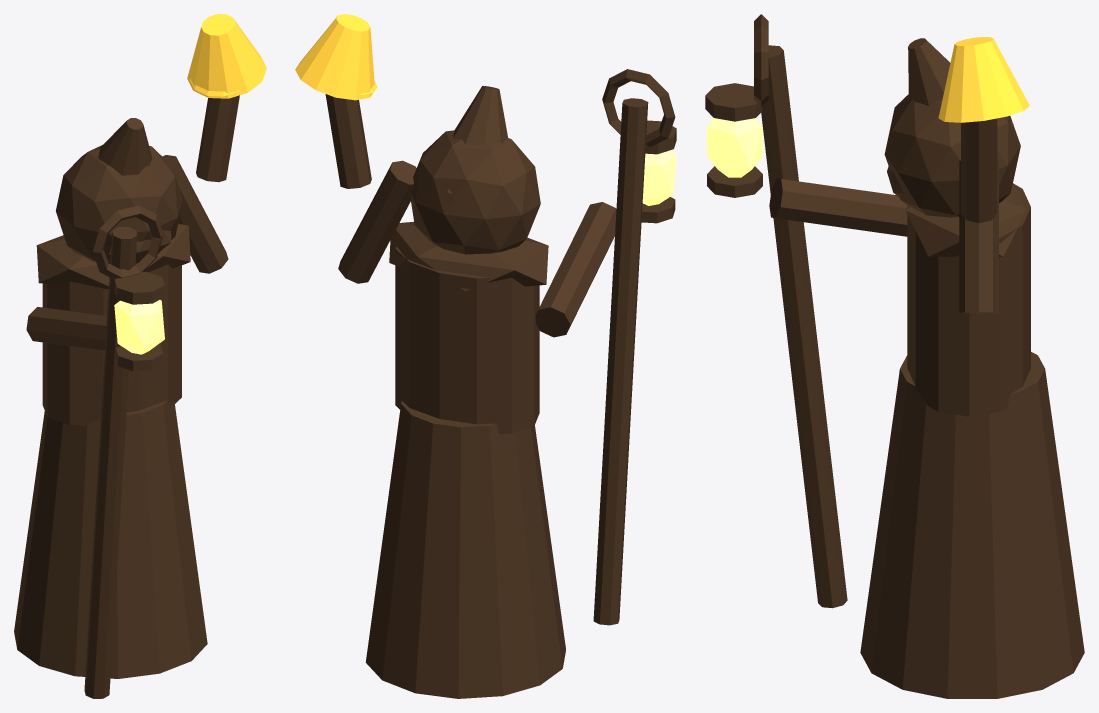
Rendered from bellkeeper_lowpoly.glb.
The picture shows the model from 3 angles, left to right: view 1: azimuth 30°, elevation 25°; view 2: azimuth 150°, elevation 25°; view 3: azimuth 270°, elevation 25°; orthographic projection. The views are drawn at different scales.
Visible parts, largest first — view 1: robe_skirt, chest, lantern_staff, hood, hand_bell, shoulders, arm_staff, bell_arm_lower, bell_arm_upper, lantern, hood_peak, staff_crook (+3 smaller); view 2: robe_skirt, chest, lantern_staff, hood, arm_staff, shoulders, hand_bell, bell_arm_lower, bell_arm_upper, hood_peak, staff_crook, lantern (+1 smaller); view 3: robe_skirt, chest, lantern_staff, hood, arm_staff, hand_bell, bell_arm_lower, bell_arm_upper, shoulders, lantern, hood_peak, lantern_top (+2 smaller).
Part boxes in pixels (x1,y1,x2,y2): robe_skirt: (14,400,207,678); chest: (42,264,181,425); lantern_staff: (84,227,137,698); hood: (56,145,183,263); hand_bell: (187,14,266,98); shoulders: (36,223,190,288); arm_staff: (26,307,161,350); bell_arm_lower: (162,155,228,273); bell_arm_upper: (196,95,239,182); lantern: (114,300,164,354); hood_peak: (98,118,152,175); staff_crook: (93,205,163,279); robe_skirt: (365,401,565,698); chest: (395,246,539,434); lantern_staff: (593,98,648,625); hood: (411,130,540,254); arm_staff: (535,202,616,337); shoulders: (389,221,548,291); hand_bell: (295,14,374,100); bell_arm_lower: (338,160,416,283); bell_arm_upper: (325,94,371,188); hood_peak: (444,86,507,193); staff_crook: (602,69,675,147); lantern: (642,150,676,205); robe_skirt: (860,352,1084,698); chest: (907,183,1030,416); lantern_staff: (761,45,847,608); hood: (884,94,1020,217); arm_staff: (769,178,907,236); hand_bell: (938,37,1029,122); bell_arm_lower: (959,160,998,312); bell_arm_upper: (961,118,997,223); shoulders: (905,183,1026,256); lantern: (707,118,762,177); hood_peak: (908,38,1013,126); lantern_top: (705,83,762,121).
Size of what is drawn, in the model's own units: 1.06 by 2.26 by 1.15.
